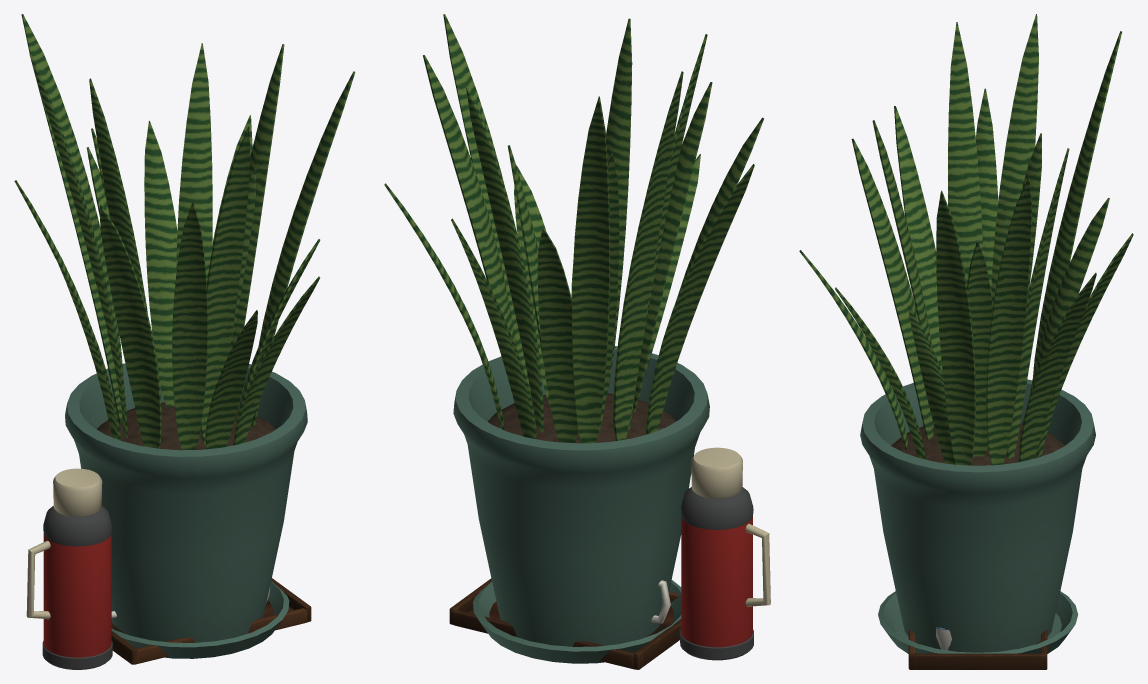
File: CTCC_PROP_ReceptionDetails.fbx
3 renders of one model, left to right at view 1: azimuth 30°, elevation 25°; view 2: azimuth 150°, elevation 25°; view 3: azimuth 270°, elevation 25°, orthographic. The views are drawn at different scales.
Visible parts, largest first — view 1: PottedPlant, LanTeaSet; view 2: PottedPlant, LanTeaSet; view 3: PottedPlant, LanTeaSet.
Part boxes in pixels (x1,y1,x2,y2): PottedPlant: [14, 14, 355, 658]; LanTeaSet: [26, 468, 311, 669]; PottedPlant: [384, 14, 763, 663]; LanTeaSet: [449, 447, 770, 669]; PottedPlant: [799, 14, 1133, 653]; LanTeaSet: [908, 627, 1047, 669].
Size of the model in its own units: 0.6593 by 1.14 by 0.618.
